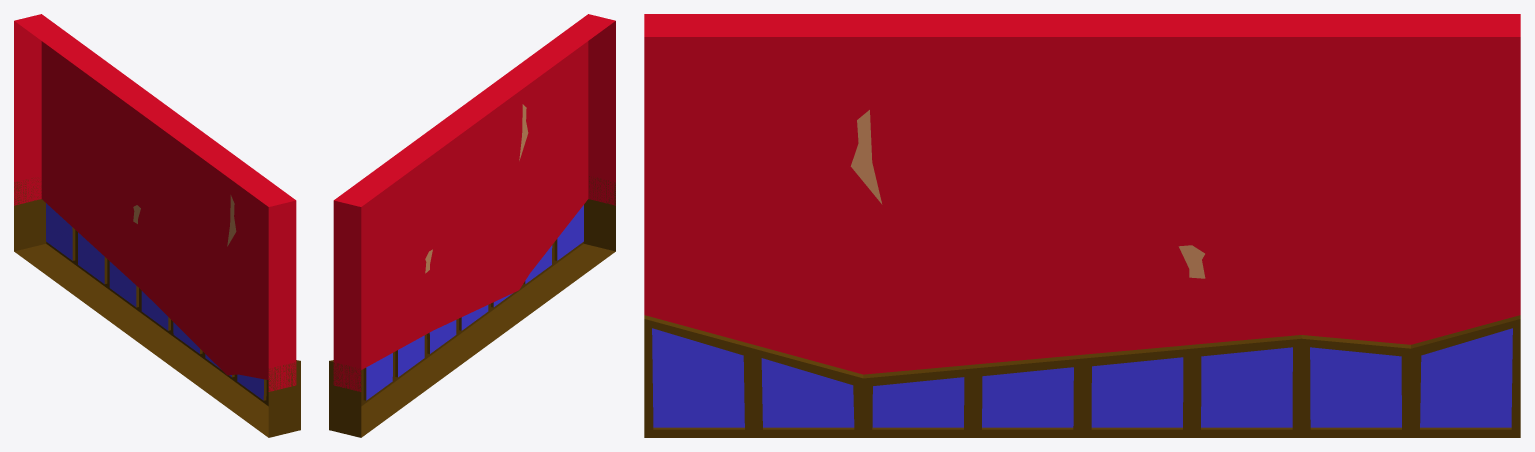
The model's file is SM_Wall_Test.fbx.
3 renders of one model, left to right at view 1: azimuth 30°, elevation 25°; view 2: azimuth 150°, elevation 25°; view 3: azimuth 270°, elevation 25°, orthographic. The views are drawn at different scales.
Visible parts, largest first — view 1: Cube.002; view 2: Cube.002; view 3: Cube.002.
Boxes of the visible parts, box(x1,y1,x2,y2) form: Cube.002: box(14, 14, 300, 437); Cube.002: box(329, 14, 615, 437); Cube.002: box(644, 14, 1520, 437).
Bounding box in the file's own units: 58.29 × 400 × 800.
